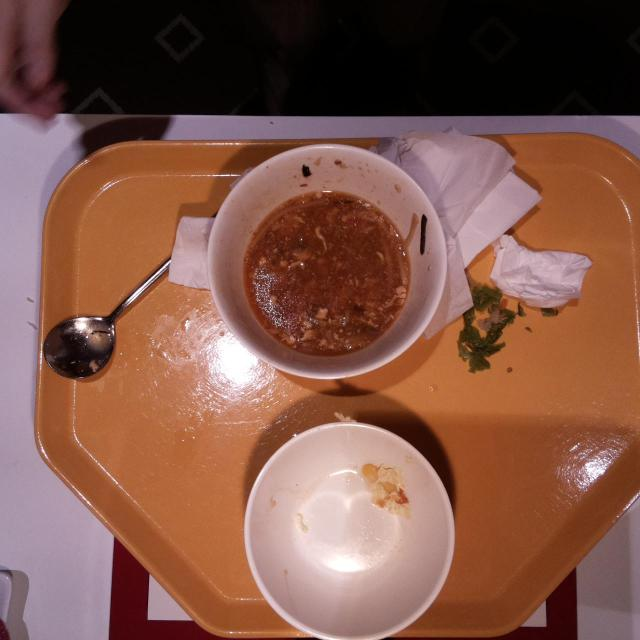Vegetable: (457, 294, 509, 376)
